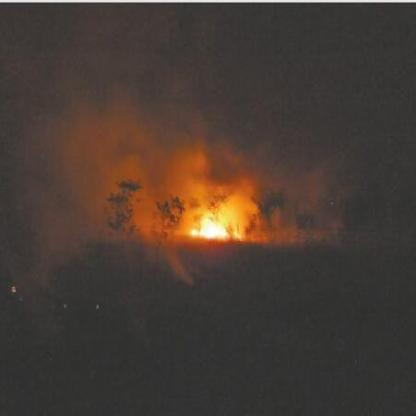fire: (174, 196, 256, 236)
